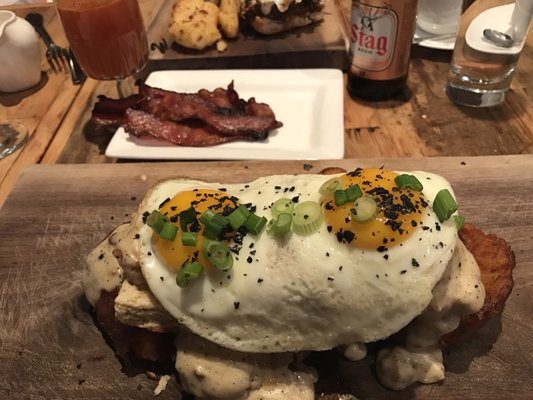burger: (24, 12, 88, 84)
pizza: (446, 0, 533, 108), (54, 0, 150, 82), (414, 0, 464, 40)
